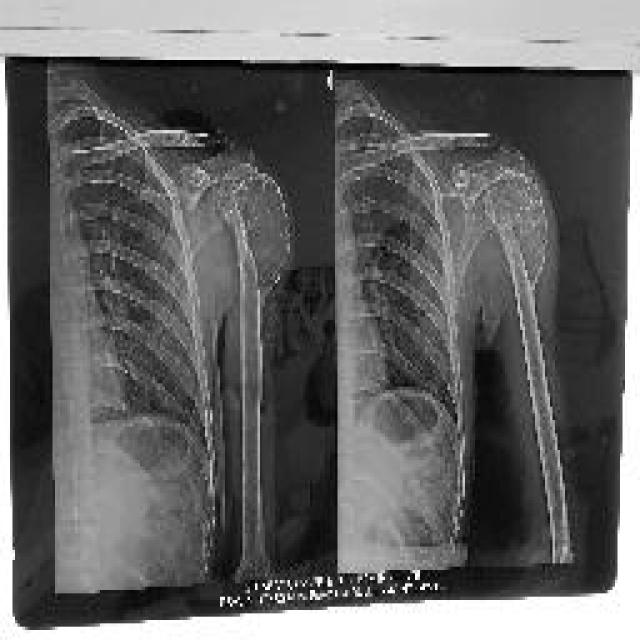bone-cancer: (215, 167, 286, 291), (485, 167, 550, 291)
